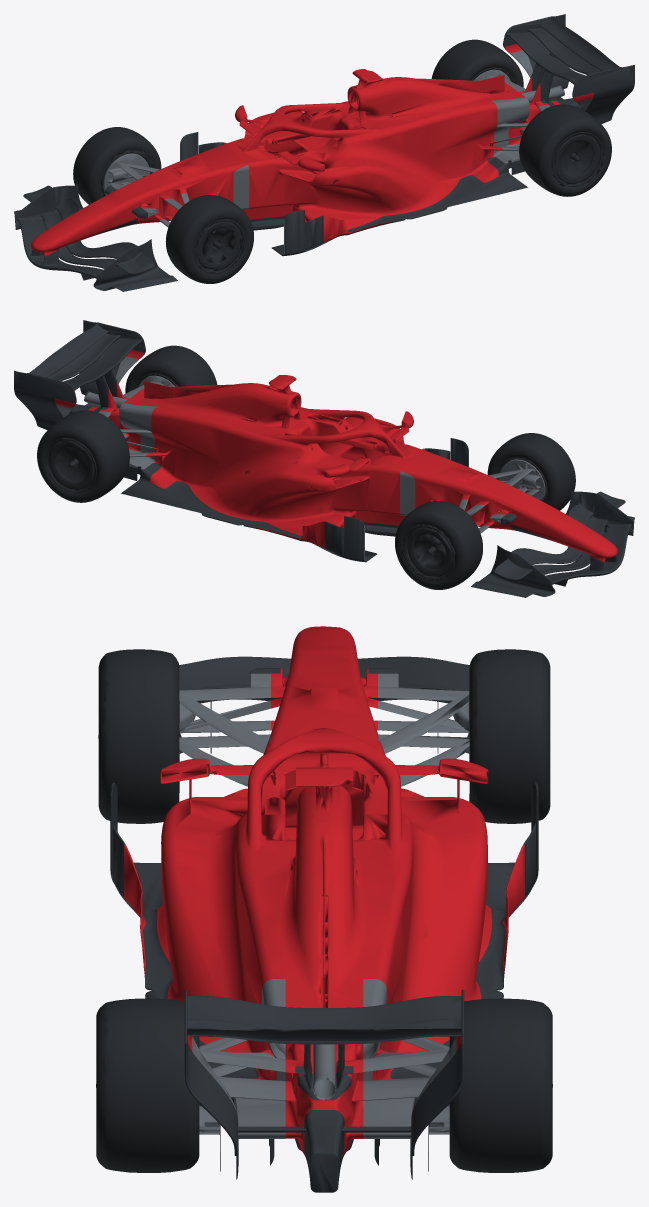
3 views of the same model, one above another, from view 1: azimuth 30°, elevation 25°; view 2: azimuth 150°, elevation 25°; view 3: azimuth 270°, elevation 25° (orthographic). The views are drawn at different scales.
Visible parts, largest first — view 1: left-sidepod, chassis, front-wing, rear-wing, engine-cover, rear-left-wheel, front-left-wheel, floor, front-right-wheel, halo, rear-right-wheel, rear-suspension (+3 smaller); view 2: right-sidepod, chassis, front-wing, rear-wing, engine-cover, rear-right-wheel, front-right-wheel, floor, front-left-wheel, halo, rear-left-wheel, rear-suspension (+3 smaller); view 3: engine-cover, chassis, rear-wing, right-sidepod, left-sidepod, rear-left-wheel, rear-right-wheel, front-right-wheel, front-left-wheel, rear-suspension, front-suspension, floor (+4 smaller).
Part boxes in pixels (x1=…): left-sidepod: x1=281, y1=106, x2=502, y2=242; chassis: x1=31, y1=76, x2=560, y2=256; front-wing: x1=14, y1=185, x2=177, y2=291; rear-wing: x1=503, y1=14, x2=634, y2=123; engine-cover: x1=336, y1=44, x2=593, y2=139; rear-left-wheel: x1=519, y1=104, x2=611, y2=196; front-left-wheel: x1=165, y1=194, x2=253, y2=283; floor: x1=180, y1=132, x2=527, y2=256; front-right-wheel: x1=73, y1=127, x2=161, y2=204; halo: x1=245, y1=103, x2=375, y2=148; rear-right-wheel: x1=431, y1=39, x2=523, y2=87; rear-suspension: x1=473, y1=50, x2=592, y2=163; right-sidepod: x1=146, y1=412, x2=367, y2=548; chassis: x1=88, y1=382, x2=617, y2=562; front-wing: x1=471, y1=491, x2=634, y2=597; rear-wing: x1=14, y1=320, x2=145, y2=429; engine-cover: x1=55, y1=350, x2=313, y2=445; rear-right-wheel: x1=37, y1=410, x2=129, y2=502; front-right-wheel: x1=395, y1=501, x2=482, y2=589; floor: x1=121, y1=438, x2=468, y2=562; front-left-wheel: x1=487, y1=433, x2=575, y2=510; halo: x1=273, y1=409, x2=403, y2=454; rear-left-wheel: x1=125, y1=345, x2=217, y2=393; rear-suspension: x1=56, y1=356, x2=175, y2=469; engine-cover: x1=187, y1=767, x2=461, y2=1051; chassis: x1=234, y1=626, x2=414, y2=1155; rear-wing: x1=184, y1=989, x2=464, y2=1192; right-sidepod: x1=384, y1=765, x2=524, y2=1079; left-sidepod: x1=124, y1=765, x2=264, y2=1079; rear-left-wheel: x1=96, y1=998, x2=199, y2=1172; rear-right-wheel: x1=449, y1=998, x2=552, y2=1172; front-right-wheel: x1=469, y1=649, x2=550, y2=823; front-left-wheel: x1=98, y1=649, x2=179, y2=823; rear-suspension: x1=192, y1=979, x2=456, y2=1152; front-suspension: x1=179, y1=673, x2=469, y2=786; floor: x1=110, y1=782, x2=538, y2=1179.
Bounding box in the file's own units: 5394 × 1099 × 1881.
